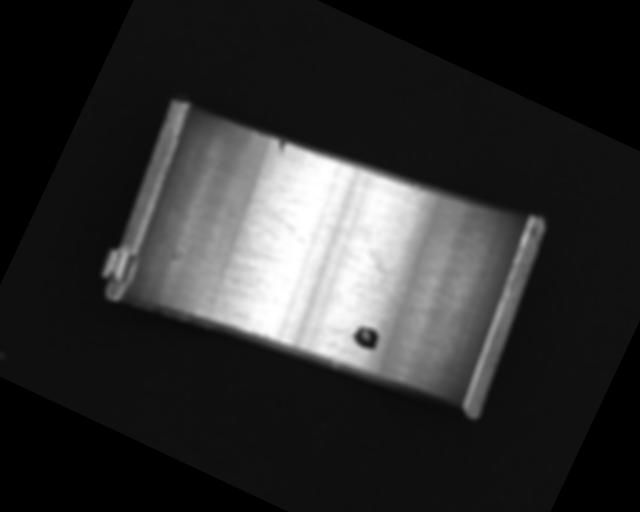blot: (348, 246, 419, 314), (348, 321, 383, 353)
bruise: (273, 138, 289, 156), (411, 183, 423, 194)
